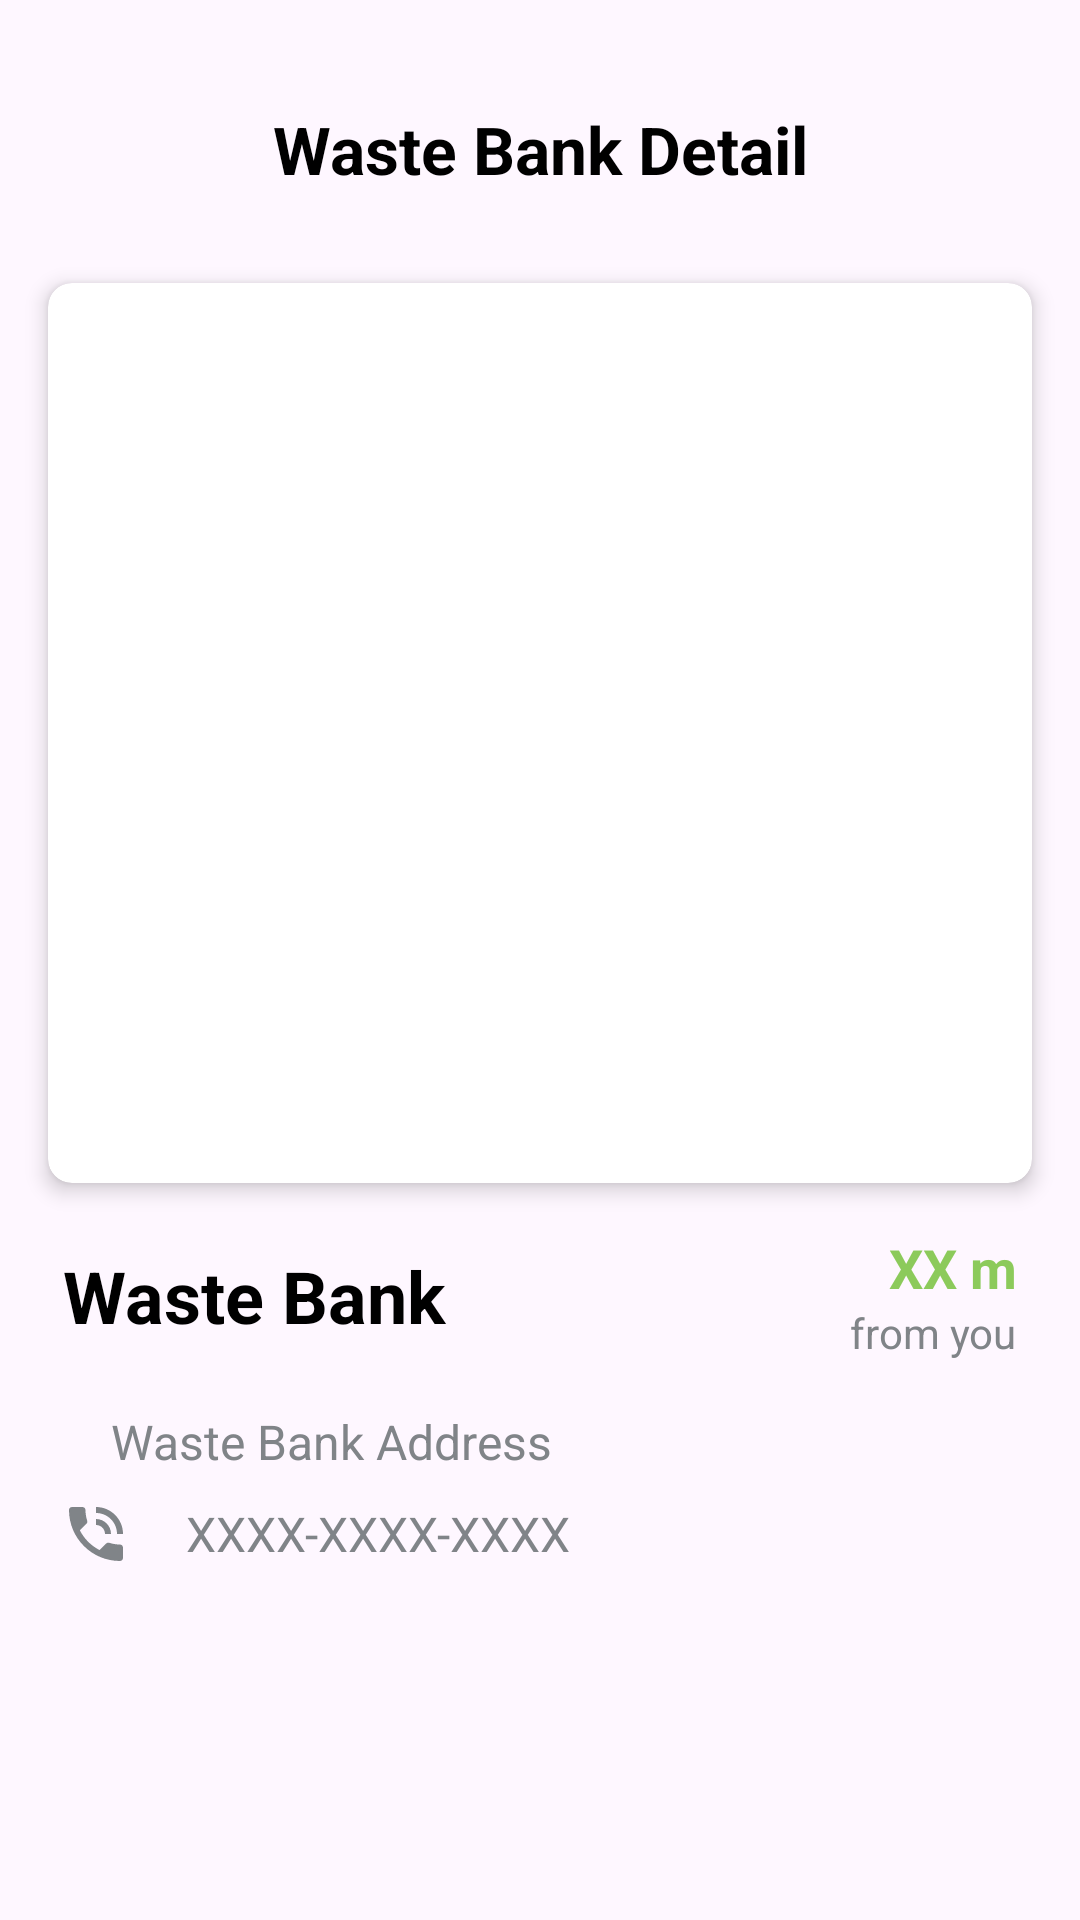

Icons on this 1080 x 1920 Android screen, each with its box as (x1, y1, x2, y2):
phone in talk: (69, 1507, 123, 1561)
